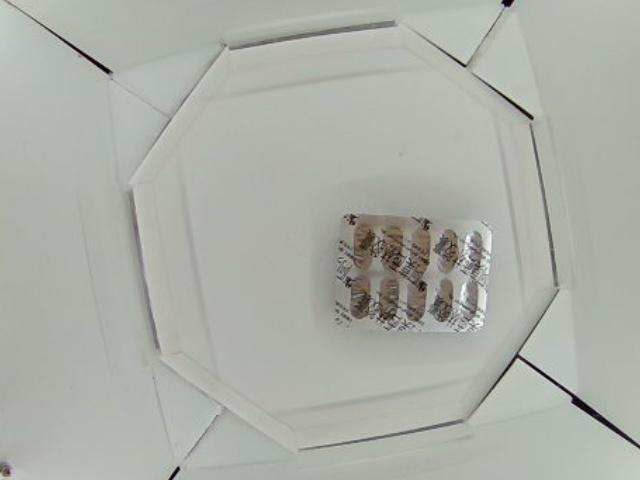Medicine: (330, 212, 494, 333)
